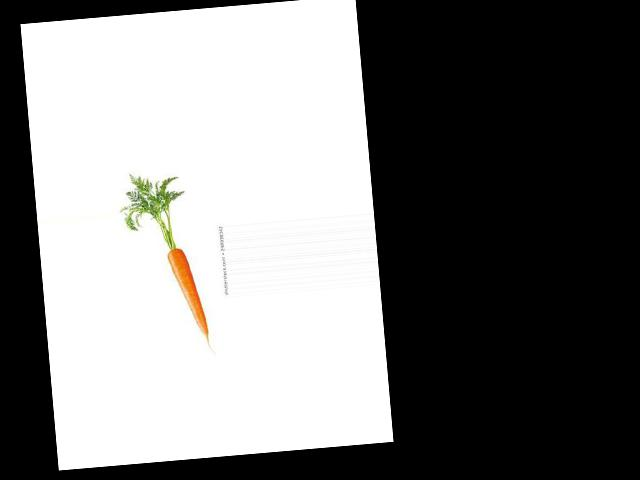carrot: (165, 242, 216, 343)
